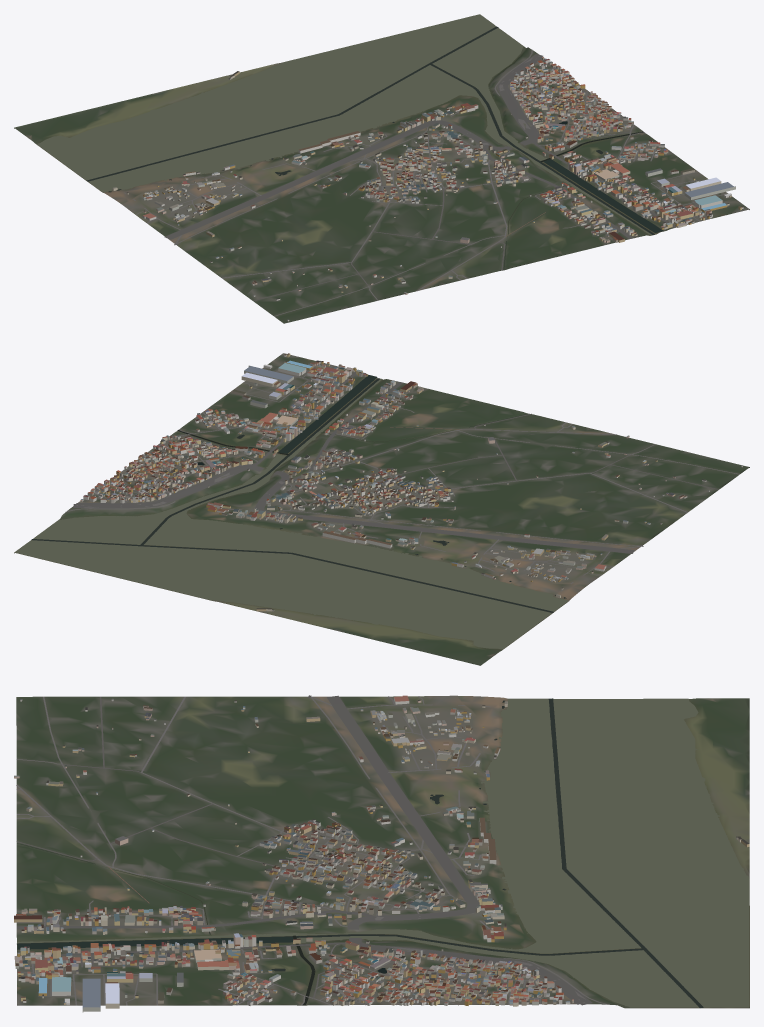
3 renders of one model, top to bottom at view 1: azimuth 30°, elevation 25°; view 2: azimuth 150°, elevation 25°; view 3: azimuth 270°, elevation 25°, orthographic. The views are drawn at different scales.
Visible parts, largest first — view 1: ground, water, buildings, roads; view 2: ground, water, buildings, roads; view 3: ground, water, buildings, roads.
Part boxes in pixels (left/top/right/bottom): ground: left=14, top=14, right=749, bottom=323; water: left=37, top=14, right=663, bottom=269; buildings: left=112, top=57, right=743, bottom=321; roads: left=124, top=49, right=728, bottom=316; ground: left=14, top=353, right=749, bottom=665; water: left=15, top=375, right=568, bottom=649; buildings: left=80, top=353, right=742, bottom=611; roads: left=66, top=363, right=739, bottom=591; ground: left=16, top=695, right=749, bottom=1008; water: left=17, top=698, right=749, bottom=1008; buildings: left=14, top=695, right=749, bottom=1012; roads: left=16, top=695, right=608, bottom=1005.
Size of the model in its own units: 1436 by 29.64 by 1407.
